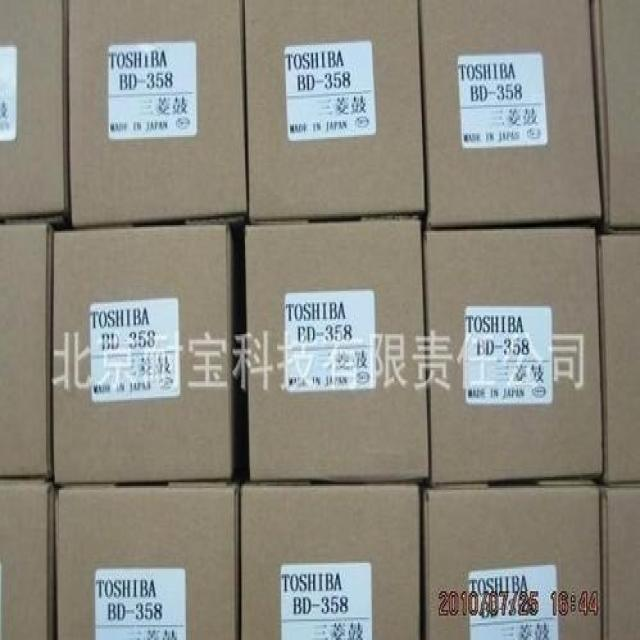box: (52, 222, 241, 482), (247, 217, 432, 481), (426, 228, 605, 481), (419, 1, 601, 227), (65, 1, 247, 226), (243, 4, 423, 220), (54, 477, 241, 638), (421, 475, 604, 638), (239, 481, 422, 637), (0, 0, 68, 221), (0, 219, 55, 480), (595, 231, 639, 480), (592, 0, 639, 229), (0, 479, 52, 637), (603, 481, 639, 638)
